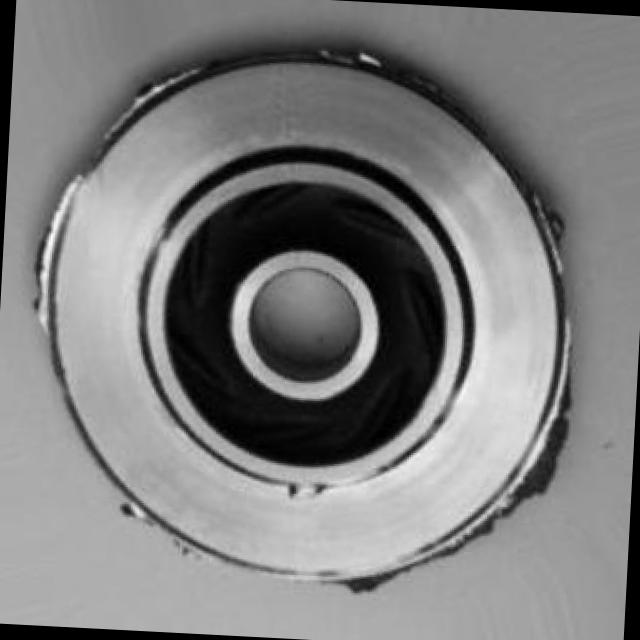Defect: (508, 443, 578, 493)
